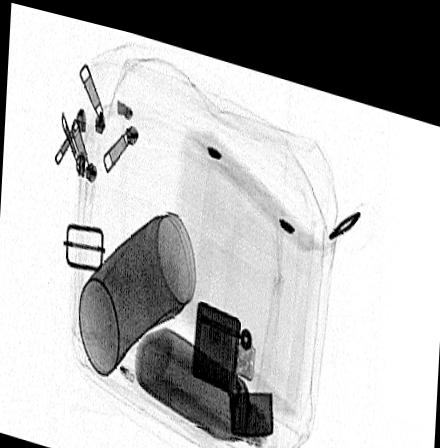Lighter: (191, 290, 273, 427)
